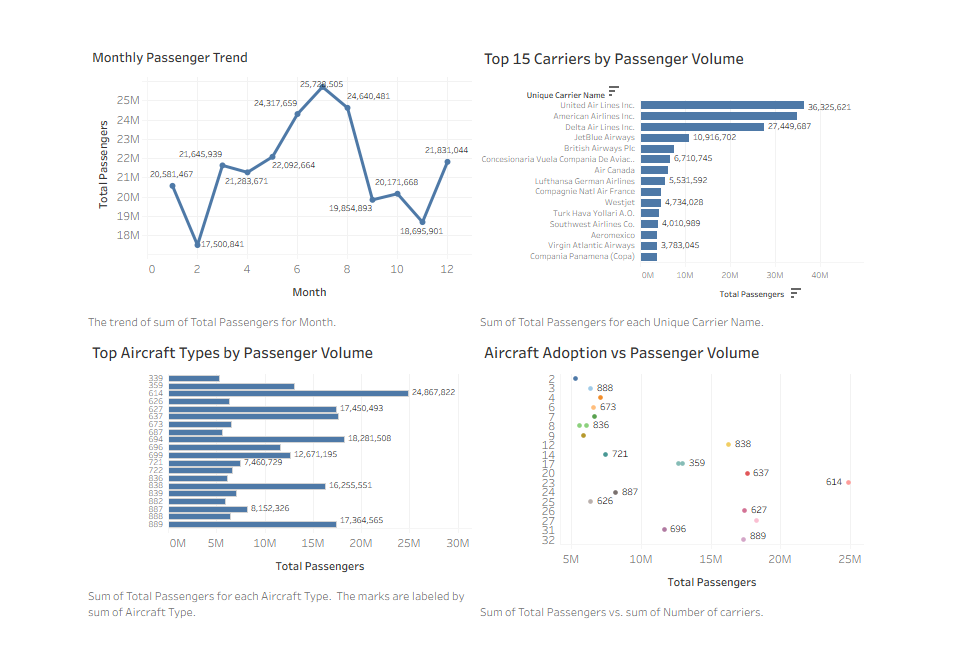

The dashboard page shown, as its layout file describes it:
{"tool":"tableau","page":{"name":"Dashboard 1","canvas":[800,600],"ordinal":0},"visuals":[{"type":"worksheet","title":"Monthly Passenger Trend","mark":"Automatic","rows":["total_passengers"],"cols":["MONTH"],"box":[8,8,392,293.6]},{"type":"worksheet","title":"Top 15 Carriers by Passenger Volume","mark":"Automatic","rows":["UNIQUE_CARRIER_NAME"],"cols":["total_passengers"],"box":[400,8,392,293.6]},{"type":"worksheet","title":"Top Aircraft Types by Passenger Volume","mark":"Automatic","rows":["AIRCRAFT_TYPE"],"cols":["total_passengers"],"box":[8,301.5,392,290.5]},{"type":"worksheet","title":"Aircraft Adoption vs Passenger Volume","mark":"Circle","rows":["carrier_count"],"cols":["total_passengers"],"box":[400,301.5,392,290.5]}]}

Visuals, with their boxes on the page's 800x600 design canvas (x1, y1, x2, y2). These are canvas units, not pixel positions in the 966x667 screenshot, which may show the page scaled, cropped or inside an application window:
"Monthly Passenger Trend" worksheet: l=8, t=8, r=400, b=302
"Top 15 Carriers by Passenger Volume" worksheet: l=400, t=8, r=792, b=302
"Top Aircraft Types by Passenger Volume" worksheet: l=8, t=302, r=400, b=592
"Aircraft Adoption vs Passenger Volume" worksheet (Circle marks): l=400, t=302, r=792, b=592
